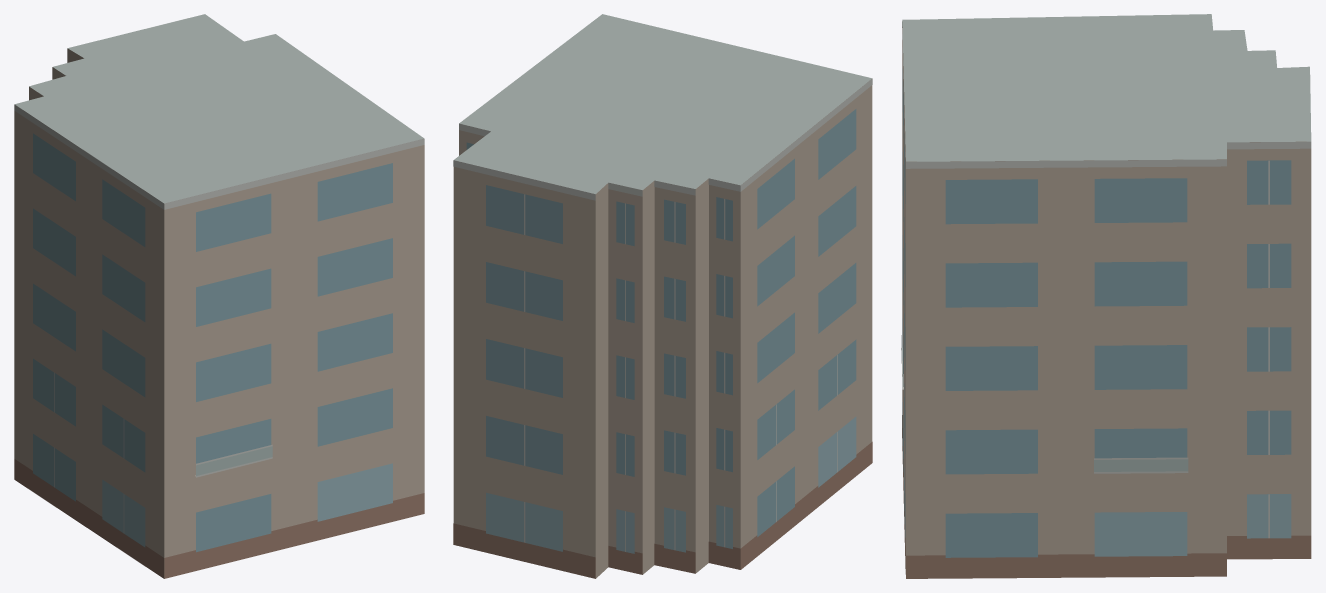
File: survey-upis-32881479.glb
3 views of the same model, side by side, from view 1: azimuth 30°, elevation 25°; view 2: azimuth 150°, elevation 25°; view 3: azimuth 270°, elevation 25° (orthographic). The views are drawn at different scales.
Visible parts, largest first — view 1: survey-upis-32881479.tmp; view 2: survey-upis-32881479.tmp; view 3: survey-upis-32881479.tmp.
Part boxes in pixels (x1=…): survey-upis-32881479.tmp: x1=14, y1=14, x2=424, y2=578; survey-upis-32881479.tmp: x1=453, y1=14, x2=872, y2=578; survey-upis-32881479.tmp: x1=901, y1=14, x2=1311, y2=578.
Bounding box in the file's own units: 10.95 × 14.4 × 12.83.
